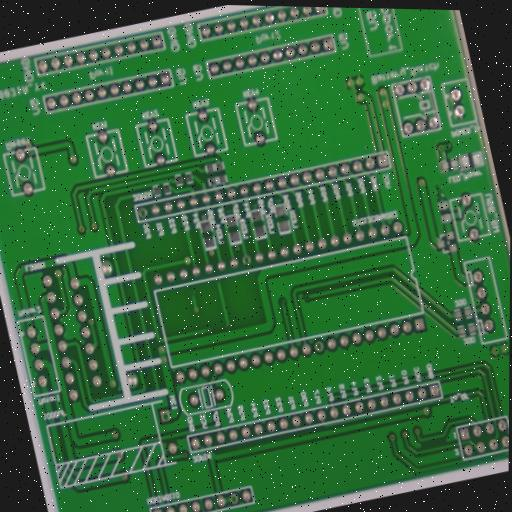missing_hole: (311, 338, 328, 355), (239, 250, 254, 269), (227, 489, 242, 507), (158, 409, 172, 425), (136, 205, 150, 221)
